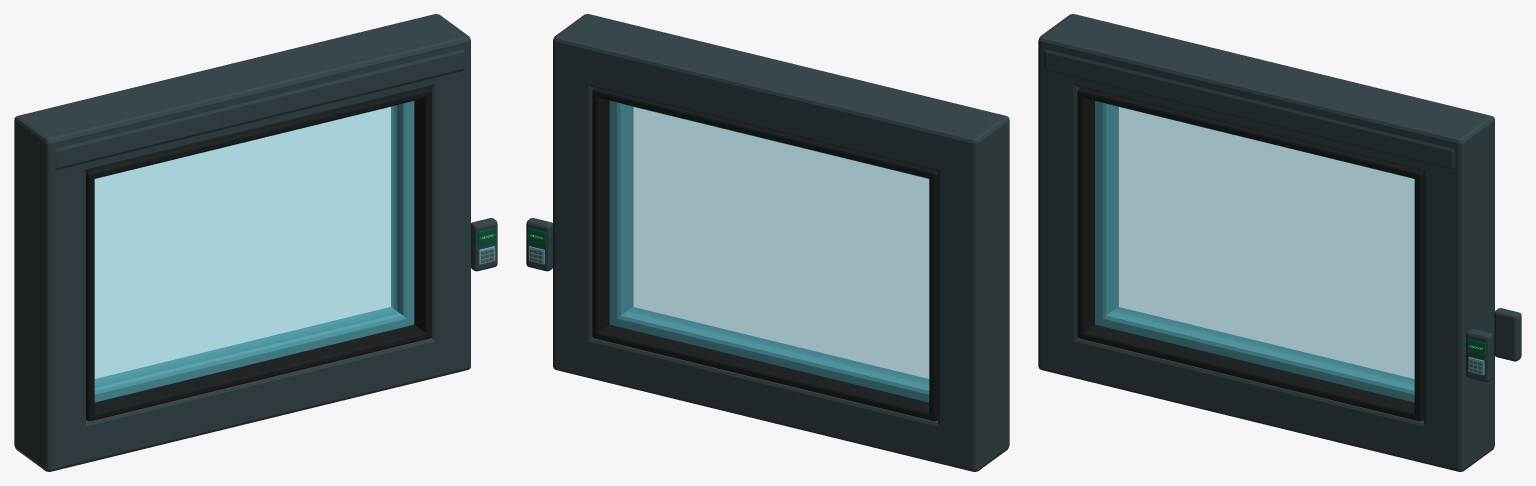
The model's file is Grande porte vitree de hangar.glb.
3 views of the same model, side by side, from view 1: azimuth 30°, elevation 25°; view 2: azimuth 150°, elevation 25°; view 3: azimuth 330°, elevation 25° (orthographic).
Parts seen in each view (by area): view 1: GLASS_HANGAR_Transparent_Main_Glass_4x3m, GLASS_HANGAR_Frame_Left, GLASS_HANGAR_Frame_Top, GLASS_HANGAR_Frame_Bottom_Threshold, GLASS_HANGAR_Frame_Right, GLASS_HANGAR_Integrated_Overhead_Lift_Motor, GLASS_HANGAR_Bottom_Rail, GLASS_HANGAR_Inner_Rubber_Seal_Bottom, GLASS_HANGAR_Right_Stile, GLASS_HANGAR_Inner_Rubber_Seal_Right, GLASS_HANGAR_Inner_Rubber_Seal_Top, GLASS_HANGAR_Inner_Rubber_Seal_Left (+1 smaller); view 2: GLASS_HANGAR_Transparent_Main_Glass_4x3m, GLASS_HANGAR_Frame_Top, GLASS_HANGAR_Frame_Left, GLASS_HANGAR_Frame_Bottom_Threshold, GLASS_HANGAR_Frame_Right, GLASS_HANGAR_Bottom_Rail, GLASS_HANGAR_Inner_Rubber_Seal_Bottom, GLASS_HANGAR_Right_Stile, GLASS_HANGAR_Inner_Rubber_Seal_Right, GLASS_HANGAR_Inner_Rubber_Seal_Top, GLASS_HANGAR_Inner_Rubber_Seal_Left, GLASS_HANGAR_Back_Electronic_Control_Block; view 3: GLASS_HANGAR_Transparent_Main_Glass_4x3m, GLASS_HANGAR_Frame_Right, GLASS_HANGAR_Frame_Top, GLASS_HANGAR_Frame_Bottom_Threshold, GLASS_HANGAR_Frame_Left, GLASS_HANGAR_Integrated_Overhead_Lift_Motor, GLASS_HANGAR_Bottom_Rail, GLASS_HANGAR_Inner_Rubber_Seal_Bottom, GLASS_HANGAR_Left_Stile, GLASS_HANGAR_Inner_Rubber_Seal_Left, GLASS_HANGAR_Inner_Rubber_Seal_Top, GLASS_HANGAR_Inner_Rubber_Seal_Right (+2 smaller).
Boxes of the visible parts, x1,y1,x2,y2 form: GLASS_HANGAR_Transparent_Main_Glass_4x3m: (94,105,396,384); GLASS_HANGAR_Frame_Left: (14,108,85,469); GLASS_HANGAR_Frame_Top: (14,14,470,177); GLASS_HANGAR_Frame_Bottom_Threshold: (14,333,470,471); GLASS_HANGAR_Frame_Right: (403,14,470,377); GLASS_HANGAR_Integrated_Overhead_Lift_Motor: (54,49,465,169); GLASS_HANGAR_Bottom_Rail: (94,307,412,402); GLASS_HANGAR_Inner_Rubber_Seal_Bottom: (86,324,431,421); GLASS_HANGAR_Right_Stile: (391,101,414,326); GLASS_HANGAR_Inner_Rubber_Seal_Right: (414,89,431,338); GLASS_HANGAR_Inner_Rubber_Seal_Top: (86,88,431,178); GLASS_HANGAR_Inner_Rubber_Seal_Left: (86,170,94,419); GLASS_HANGAR_Transparent_Main_Glass_4x3m: (627,105,929,384); GLASS_HANGAR_Frame_Top: (553,22,1009,177); GLASS_HANGAR_Frame_Left: (938,108,1009,471); GLASS_HANGAR_Frame_Bottom_Threshold: (553,332,1009,471); GLASS_HANGAR_Frame_Right: (553,14,620,377); GLASS_HANGAR_Bottom_Rail: (610,307,929,402); GLASS_HANGAR_Inner_Rubber_Seal_Bottom: (592,324,937,420); GLASS_HANGAR_Right_Stile: (609,100,632,326); GLASS_HANGAR_Inner_Rubber_Seal_Right: (592,88,633,338); GLASS_HANGAR_Inner_Rubber_Seal_Top: (592,88,937,178); GLASS_HANGAR_Inner_Rubber_Seal_Left: (929,170,937,421); GLASS_HANGAR_Back_Electronic_Control_Block: (526,218,552,271); GLASS_HANGAR_Transparent_Main_Glass_4x3m: (1112,105,1414,384); GLASS_HANGAR_Frame_Right: (1423,108,1494,470); GLASS_HANGAR_Frame_Top: (1038,22,1494,177); GLASS_HANGAR_Frame_Bottom_Threshold: (1038,332,1494,471); GLASS_HANGAR_Frame_Left: (1038,14,1105,377); GLASS_HANGAR_Integrated_Overhead_Lift_Motor: (1044,49,1454,169); GLASS_HANGAR_Bottom_Rail: (1095,307,1414,402); GLASS_HANGAR_Inner_Rubber_Seal_Bottom: (1077,324,1423,421); GLASS_HANGAR_Left_Stile: (1095,100,1118,324); GLASS_HANGAR_Inner_Rubber_Seal_Left: (1077,88,1118,338); GLASS_HANGAR_Inner_Rubber_Seal_Top: (1077,88,1423,178); GLASS_HANGAR_Inner_Rubber_Seal_Right: (1414,170,1423,419).
Bounding box in the file's own units: 4.24 × 3 × 0.594.
